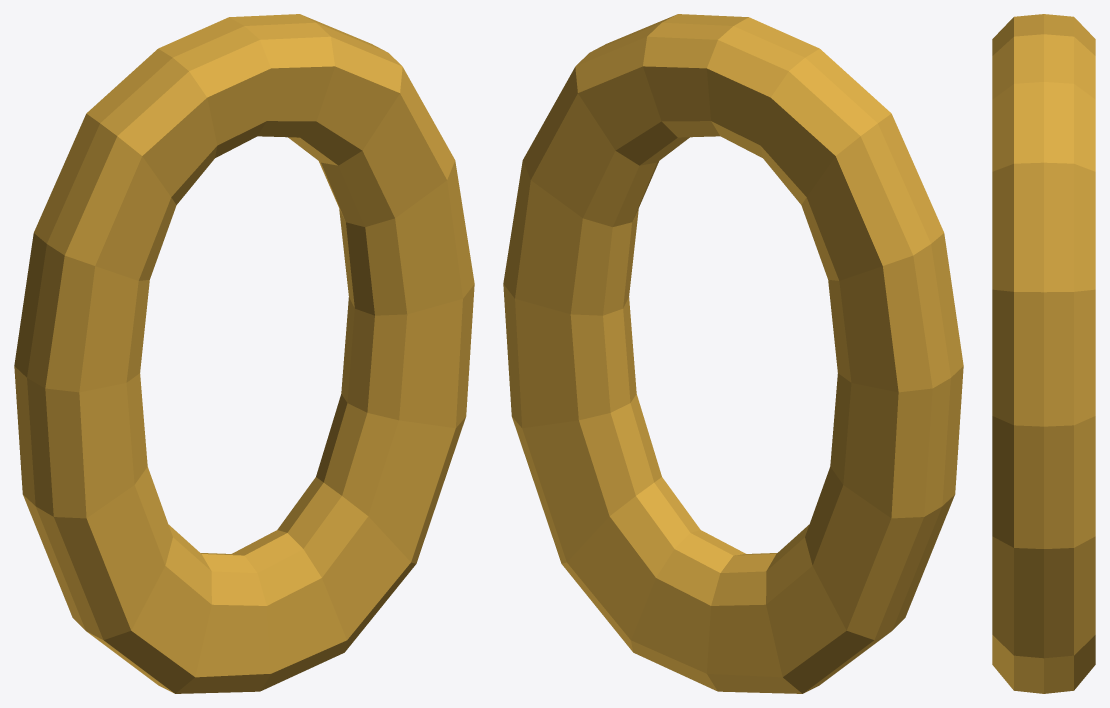
3 views of the same model, side by side, from view 1: azimuth 30°, elevation 25°; view 2: azimuth 150°, elevation 25°; view 3: azimuth 270°, elevation 25° (orthographic). The views are drawn at different scales.
Parts seen in each view (by area): view 1: 0; view 2: 0; view 3: 0.
Part boxes in pixels (x1,y1,x2,y2): 0: [14, 14, 474, 693]; 0: [503, 14, 963, 693]; 0: [992, 14, 1095, 693].
Size of the model in its own units: 48.54 by 70.1 by 10.32.
